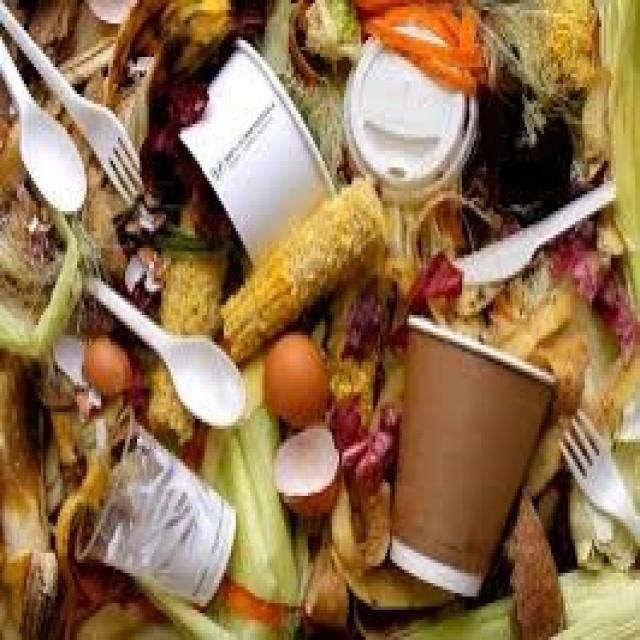hop_nhua: (79, 426, 236, 605)
ly_hop_giay: (392, 318, 556, 598), (180, 40, 334, 260)
nhua: (0, 0, 144, 203), (87, 278, 248, 427), (349, 40, 479, 196), (455, 181, 618, 285), (0, 37, 87, 213), (563, 409, 640, 545)
rac_huu_co: (209, 181, 385, 364), (265, 335, 339, 514), (603, 0, 640, 303), (161, 251, 229, 335)
